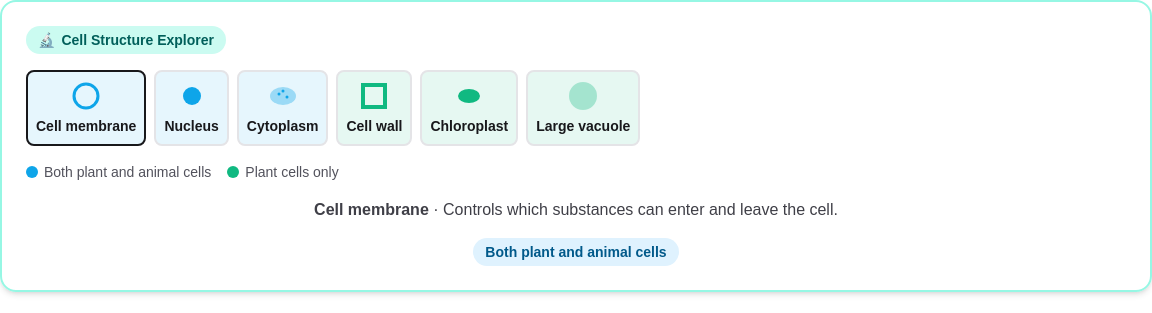
CellStructureExplorer › clicking a shared structure shows it is found in both plant and animal cells
Click the button "Nucleus": x=192, y=108 [154,70,229,146]
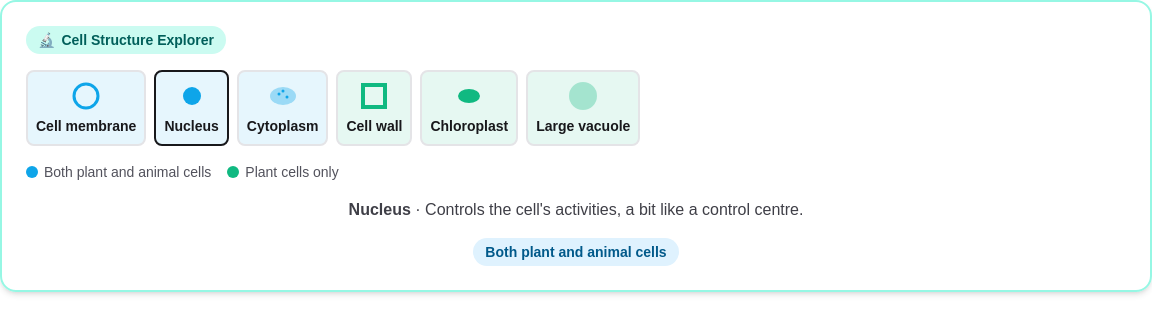
Expected: the text with test id "structure-group" reads "Both plant and animal cells", [485,244,667,260]
Expected: the text with test id "structure-name" reads "Nucleus", [349,201,411,218]
